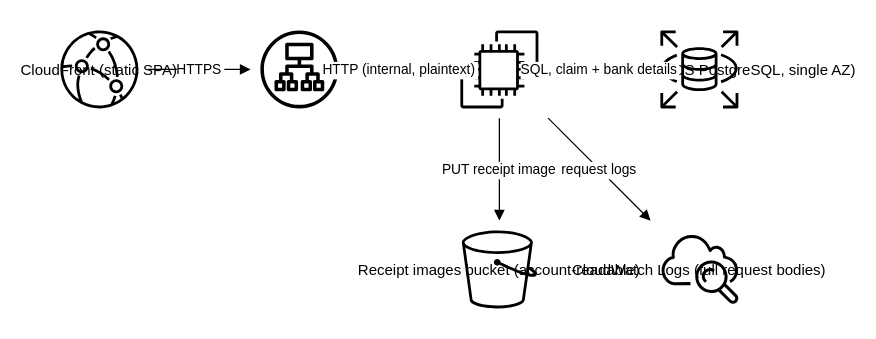
Image size: 876x339. Some labels were removed from this diagram. The box of each missing label's shape, as (x1, y1, x2, y2) in pixels:
Expense API (single EC2 instance, no autoscaling): (449, 19, 548, 118)
Public Application Load Balancer: (249, 19, 348, 118)
